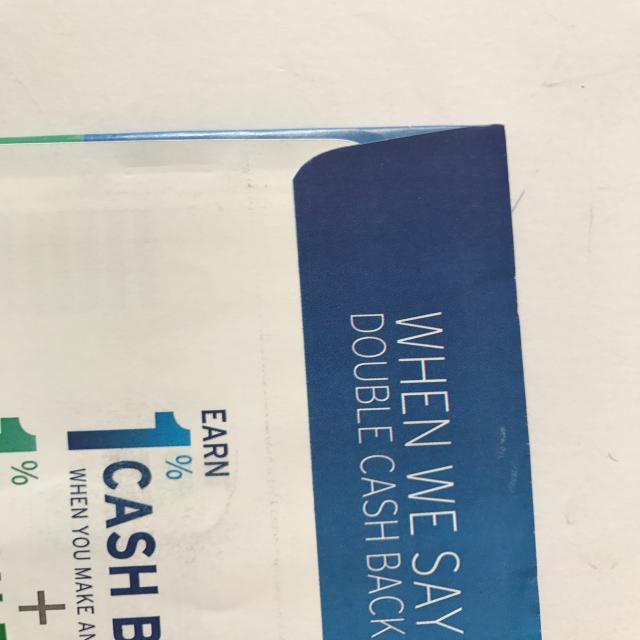Paper: (0, 108, 571, 639)
